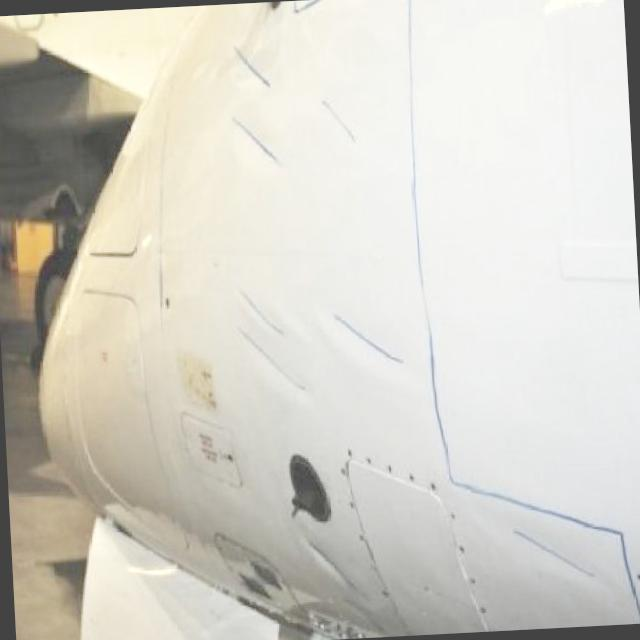dent: (503, 518, 620, 602), (329, 301, 410, 374), (231, 322, 306, 397), (305, 536, 369, 605), (230, 113, 282, 169)
